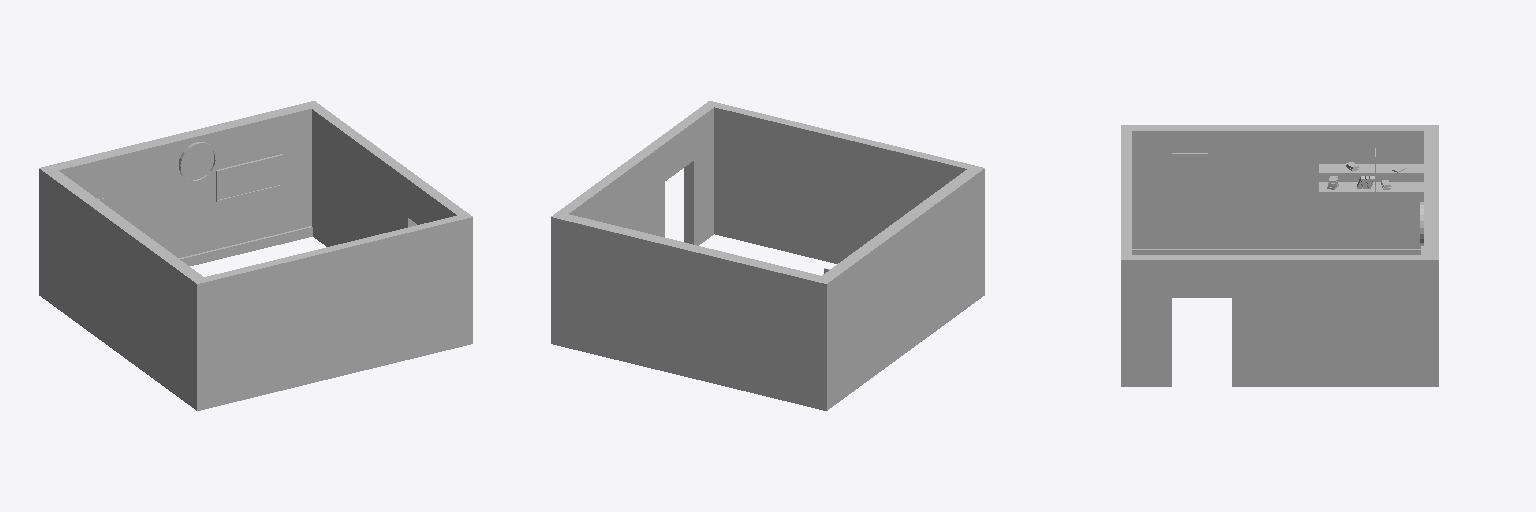
The model's file is room 3.obj.
3 views of the same model, side by side, from view 1: azimuth 30°, elevation 25°; view 2: azimuth 150°, elevation 25°; view 3: azimuth 270°, elevation 25° (orthographic).
Parts seen in each view (by area): view 1: room, Circle.016; view 2: room; view 3: room.
Boxes of the visible parts, x1,y1,x2,y2 form: room: [39, 101, 472, 410]; Circle.016: [179, 142, 216, 181]; room: [551, 101, 984, 410]; room: [1121, 125, 1438, 386].
Bounding box in the file's own units: 16.63 × 7.32 × 16.57.